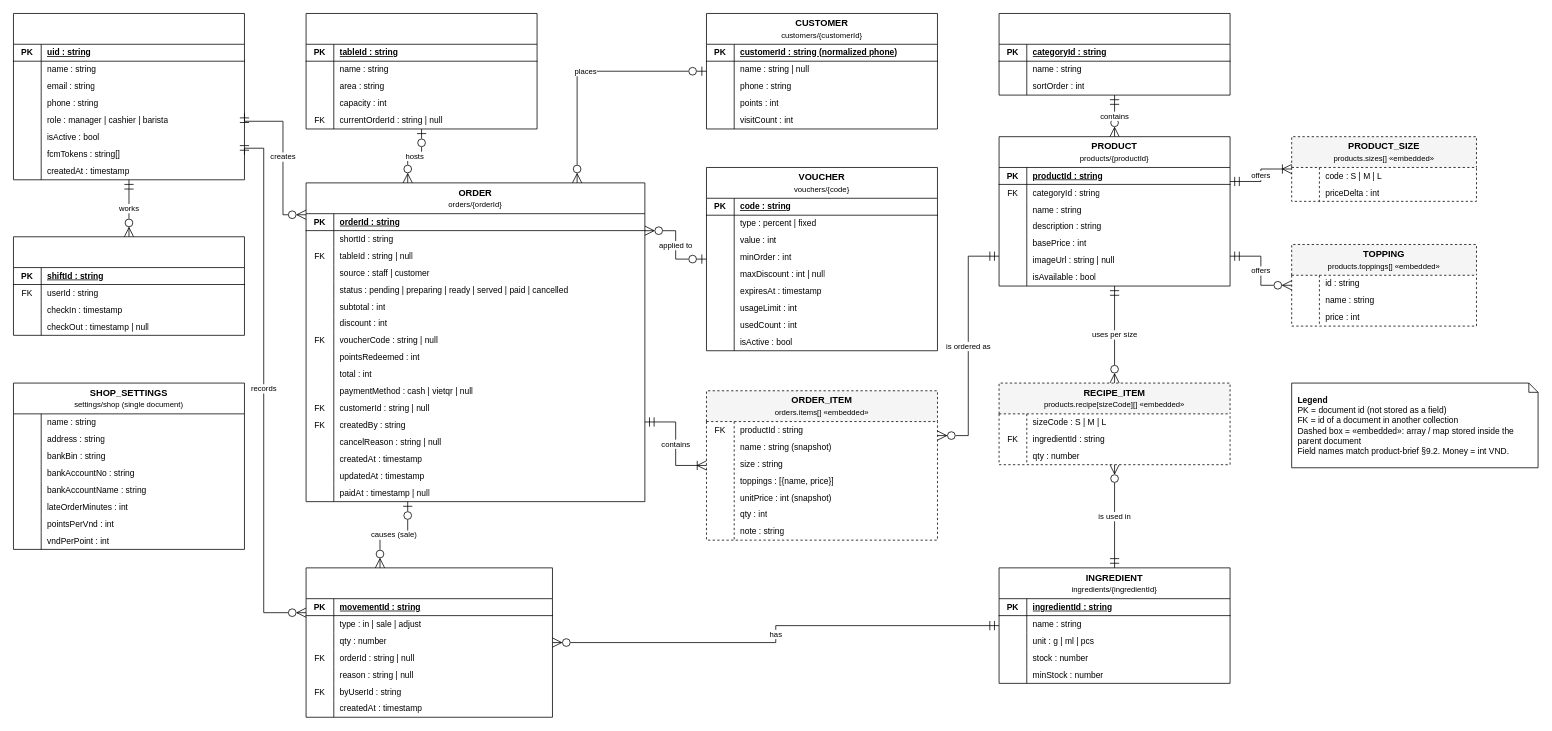
This 1552x731 diagram has some shape labels left out. Here are the shapes that lost their labels. From the top down, the box of each, then its label:
(305, 13, 537, 129): TABLE tables/{tableId}
(998, 13, 1230, 95): CATEGORY categories/{categoryId}
(13, 13, 244, 180): USER users/{uid}
(13, 236, 244, 335): SHIFT shifts/{shiftId}
(305, 567, 552, 717): STOCK_MOVEMENT ingredients/{id}/movements/{movementId}
